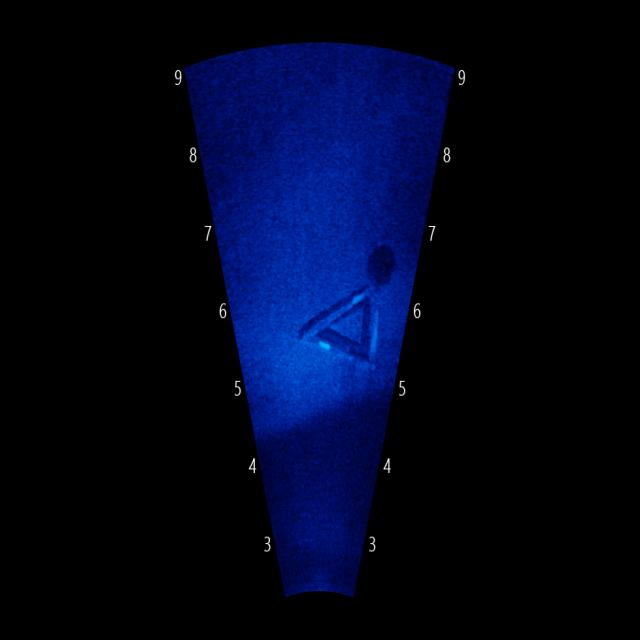triangle: (275, 264, 389, 372)
